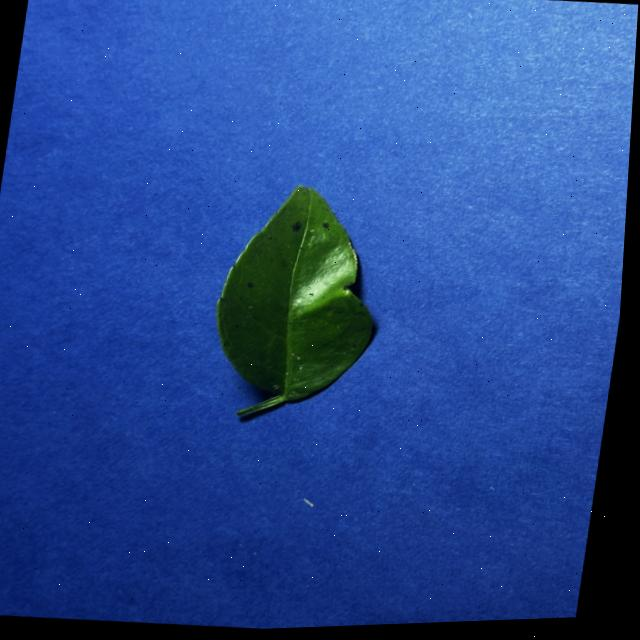sooty_mold: (216, 185, 371, 414)
